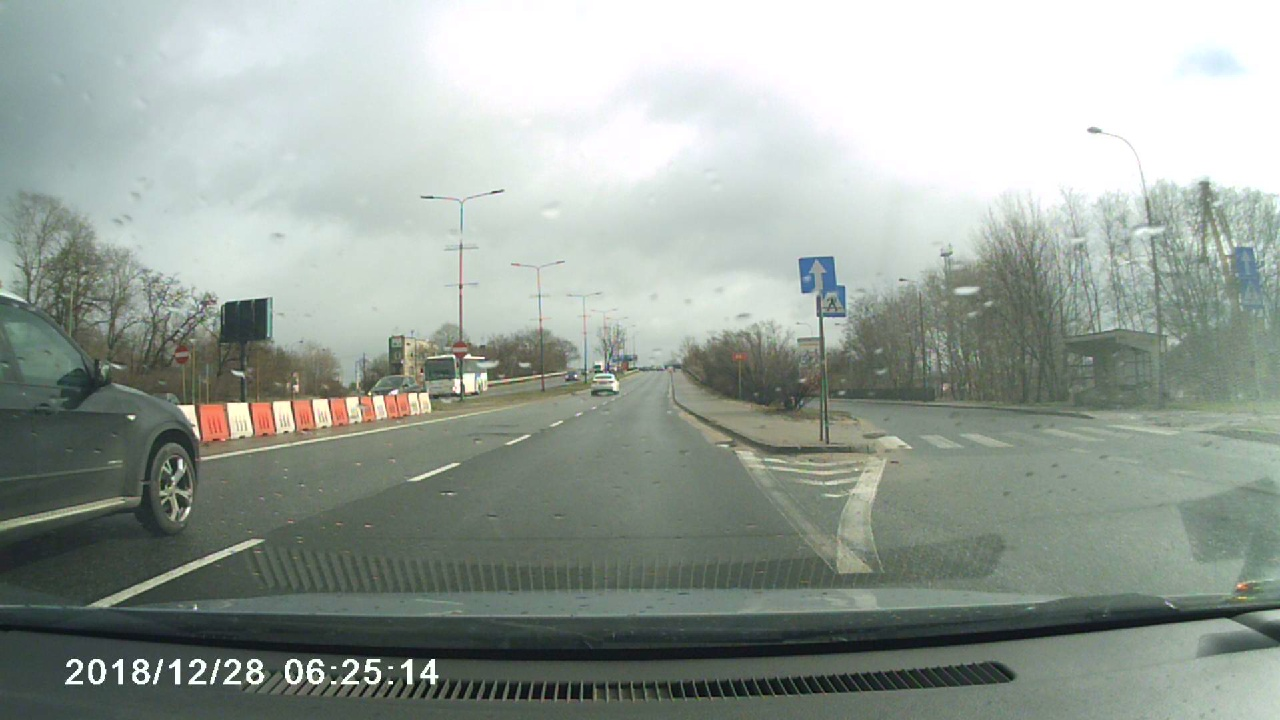B2: (167, 341, 196, 366), (449, 339, 474, 361)
D3: (798, 255, 836, 296)
D6: (815, 284, 855, 314)
